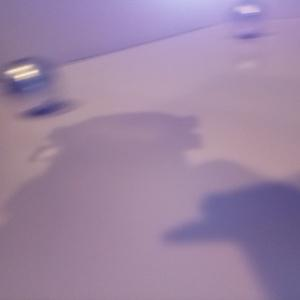alive_ball: (1, 57, 56, 111), (227, 1, 266, 37)
